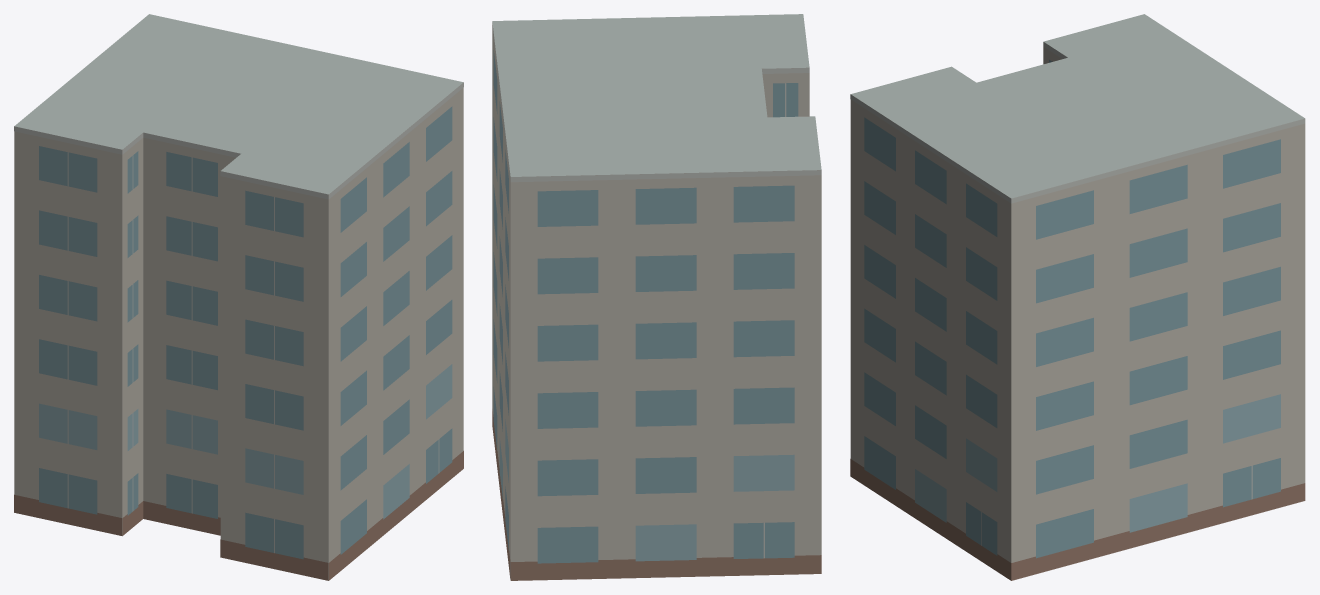
Rendered from survey-upis-32729859.glb.
The picture shows the model from 3 angles, left to right: view 1: azimuth 30°, elevation 25°; view 2: azimuth 150°, elevation 25°; view 3: azimuth 270°, elevation 25°; orthographic projection. The views are drawn at different scales.
Visible parts, largest first — view 1: survey-upis-32729859.tmp; view 2: survey-upis-32729859.tmp; view 3: survey-upis-32729859.tmp.
Boxes of the visible parts, left/top/right/bottom form: survey-upis-32729859.tmp: left=14, top=14, right=463, bottom=580; survey-upis-32729859.tmp: left=492, top=14, right=821, bottom=580; survey-upis-32729859.tmp: left=850, top=14, right=1305, bottom=580.
Bounding box in the file's own units: 19.27 × 18.6 × 20.06.
